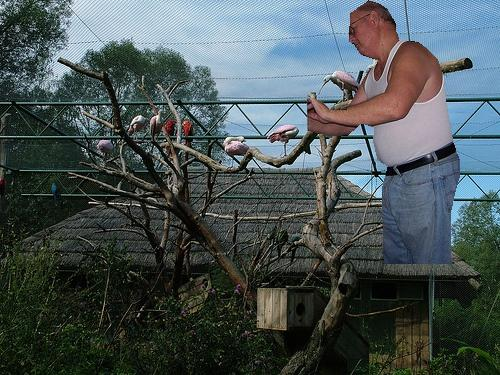tampered: (308, 1, 460, 264)
